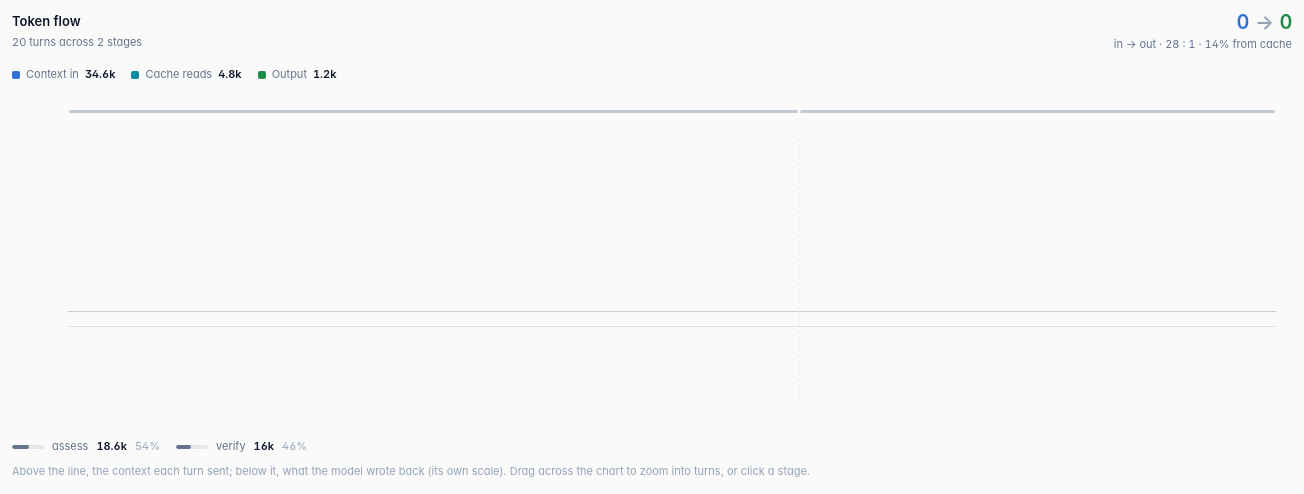
Scenario: TokenFlow › zooms to a stage when it is clicked, and resets
The width and height of the screenshot is (1304, 494).
What coordinates should you click on to do the following:
click the button "verify 16k 46%"
I would click on:
 (242, 447)
Its box is [176,438,307,455].
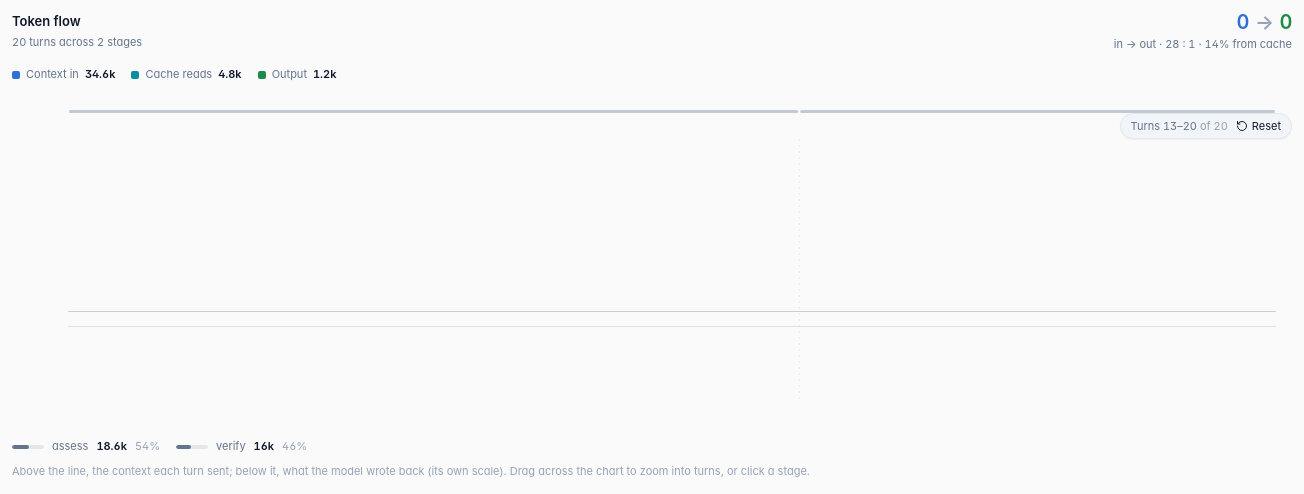
Expected: the text "Turns 13–20 of 20" is shown, [1131,118,1228,134]
What coordinates should you click on to do the following:
click the button "Reset"
I would click on:
 (1258, 126)
Its box is [1236,118,1281,134].
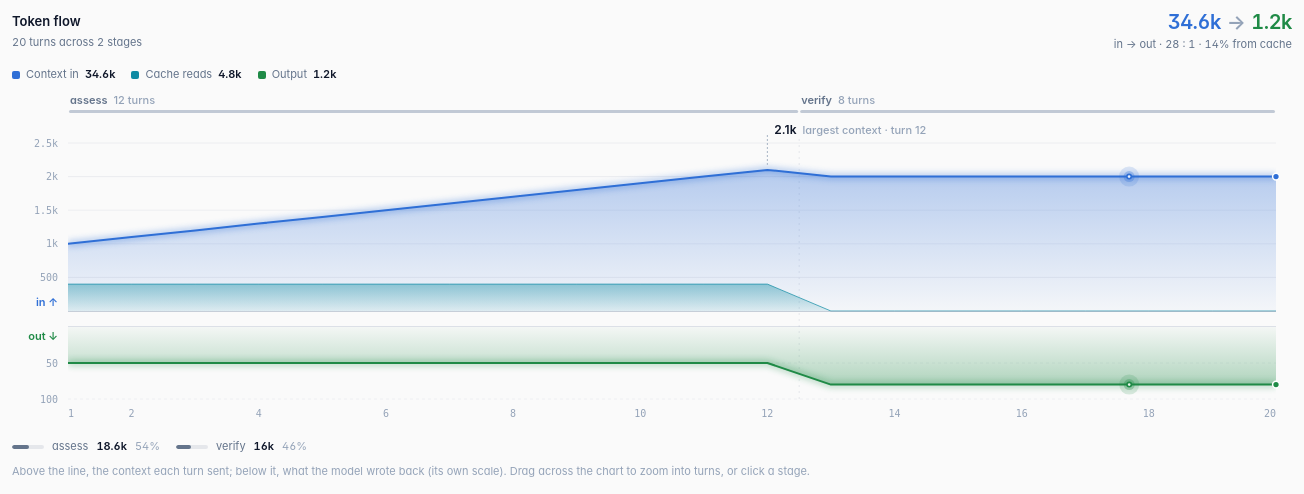
Expected: the text "Turns 13–20" is gone
